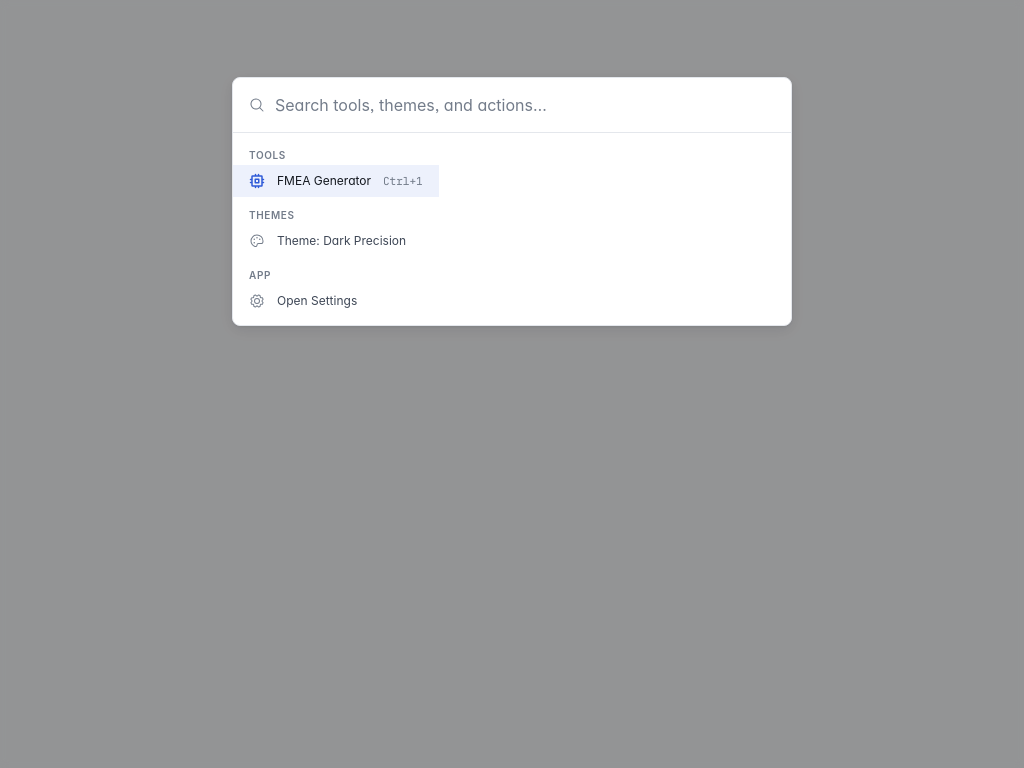
CommandPalette › filters actions by typing in the search input
Type "theme" into the dropdown named "search command palette" at coordinates (524, 105), box x1=273 y1=94 x2=775 y2=116
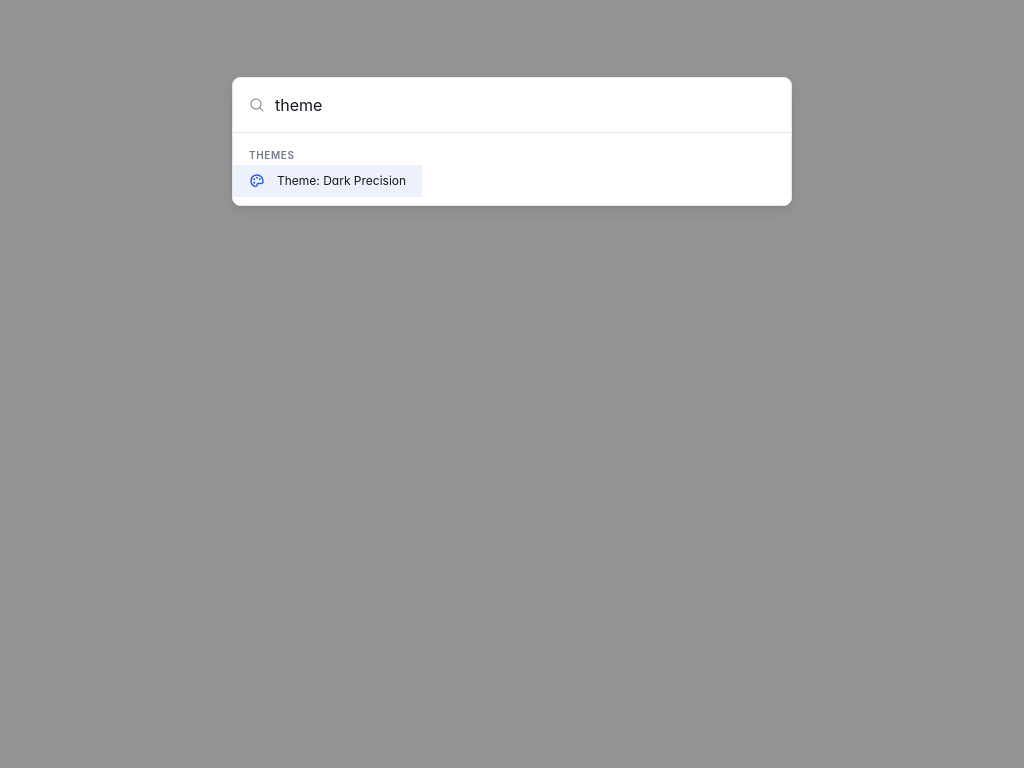
Expected: the option "Theme: Dark Precision" is shown, x1=233 y1=165 x2=422 y2=197
Result: the option "FMEA Generator" is gone
Result: the option "Open Settings" is gone
